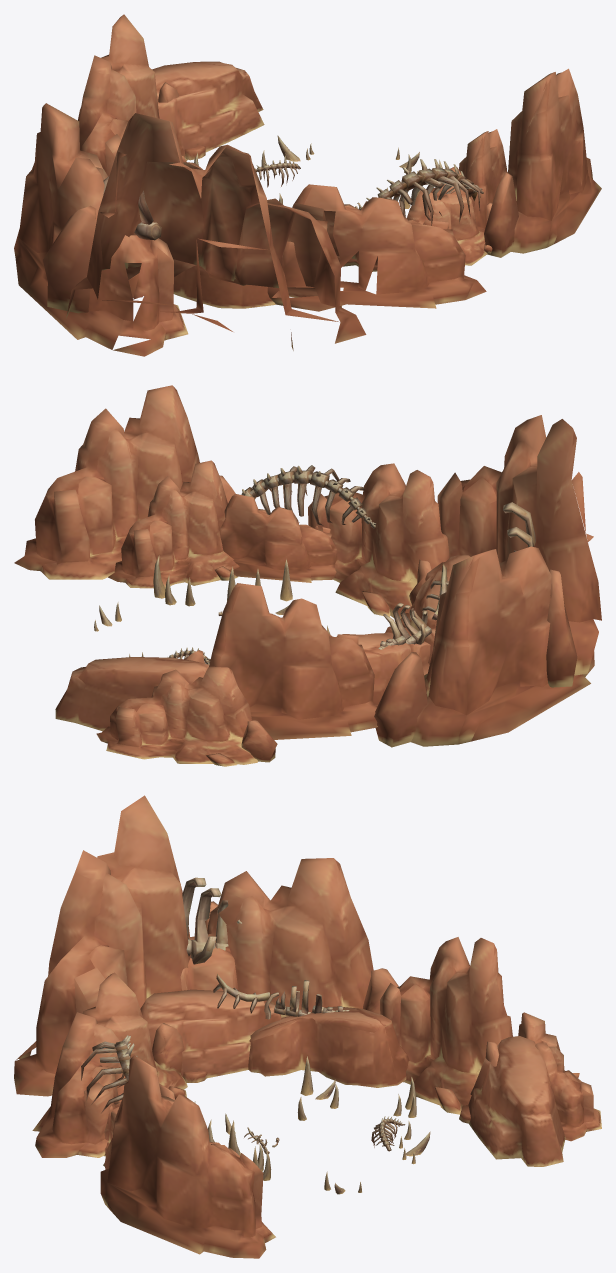
File: Area_03_1.fbx
3 views of the same model, one above another, from view 1: azimuth 30°, elevation 25°; view 2: azimuth 150°, elevation 25°; view 3: azimuth 270°, elevation 25° (orthographic).
Visible parts, largest first — view 1: Area_03_1; view 2: Area_03_1; view 3: Area_03_1.
Part boxes in pixels (x1=…): Area_03_1: x1=14, y1=14, x2=601, y2=356; Area_03_1: x1=14, y1=385, x2=601, y2=766; Area_03_1: x1=14, y1=795, x2=601, y2=1258.
Bounding box in the file's own units: 9771 × 3955 × 9031.
1 material, 1 textured.
